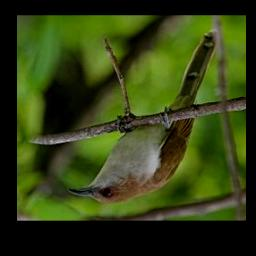Cuckoo: (66, 31, 217, 205)
